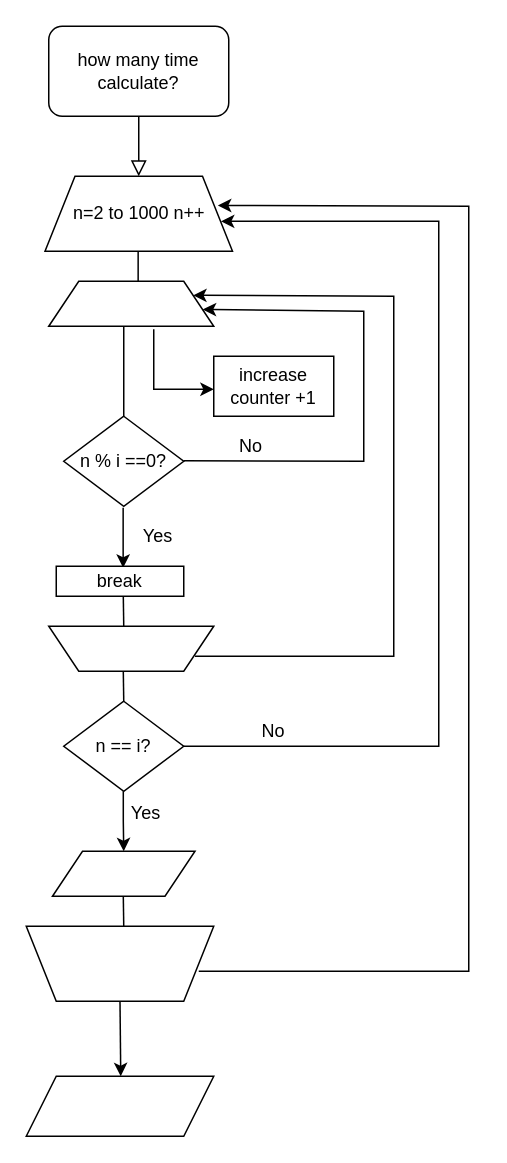
The diagram is 507 pixels wide and 1163 high, and some of its shapes have lost their labels. Each missing label, with the centre of its shape:
i=2 to n i++: pixel 130 303
print 'n': pixel 123 873
Total counting time: pixel 119 1105
